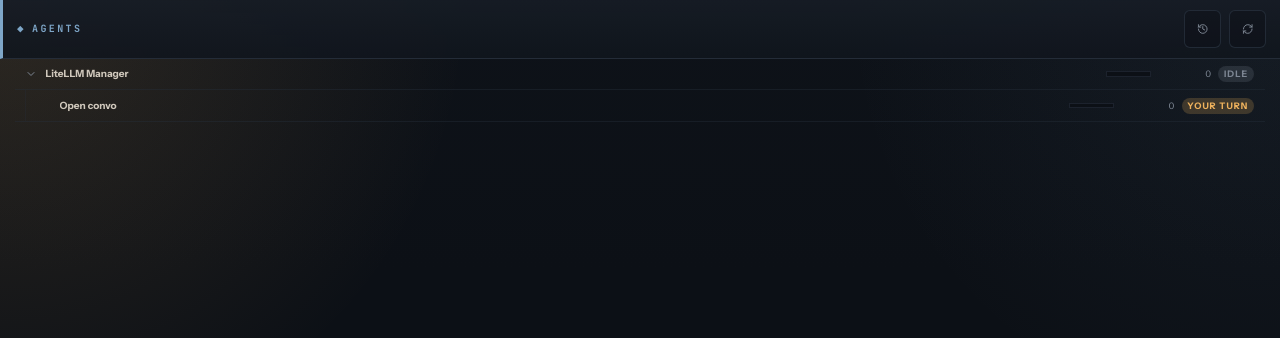
Test: SessionList history filter › hides terminal sessions by default and shows them via the History toggle
expect the text "Open convo" is shown: met, box [60,99,117,112]
expect the text "Closed convo" is not shown: met
Click the button named "show closed sessions" at (1202, 29), box [1184,10,1221,48]
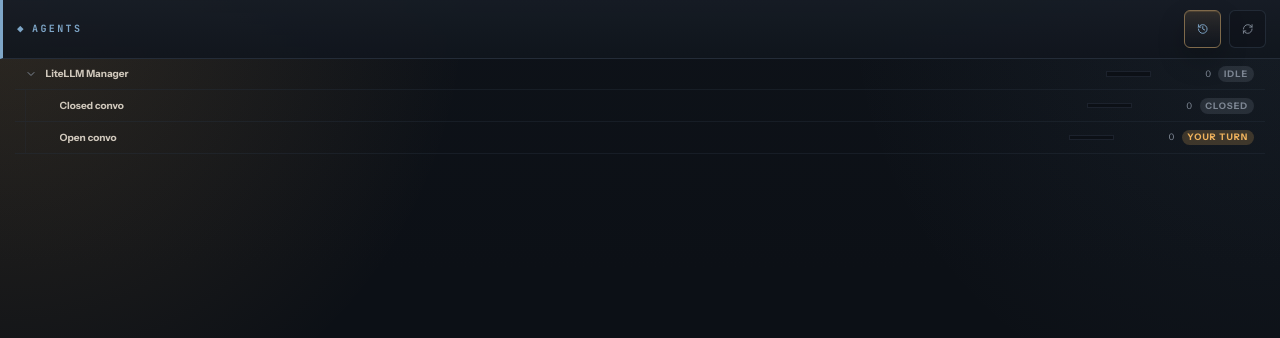
expect the text "Open convo" is shown: met, box [60,131,117,144]
expect the text "Closed convo" is shown: met, box [60,99,124,112]
